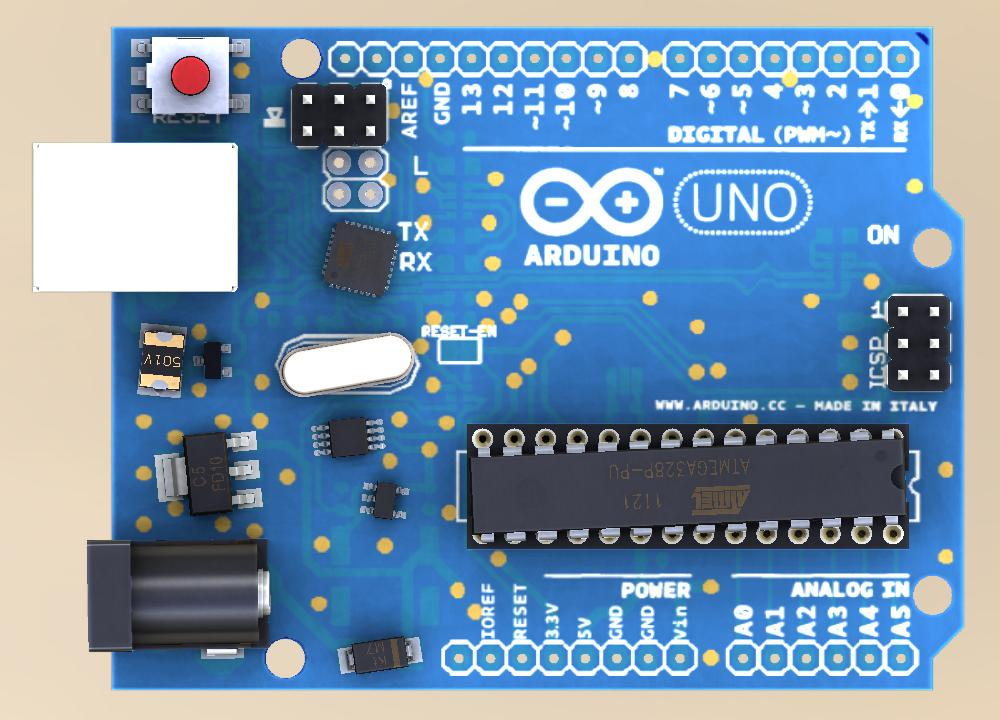ATMEL328P: (470, 421, 910, 552)
ATMega16u2: (320, 217, 398, 302)
Crystal: (279, 334, 419, 401)
Fuse: (131, 321, 189, 398)
LMV358: (360, 473, 411, 524)
M7 diode: (336, 634, 427, 677)
Missing: (329, 40, 649, 79), (440, 639, 701, 679), (383, 530, 464, 625), (304, 524, 382, 621), (433, 176, 478, 231), (813, 247, 859, 295), (837, 306, 866, 377), (256, 86, 291, 144), (600, 366, 650, 399), (443, 377, 481, 417), (439, 250, 487, 277)
PIN Header: (887, 293, 953, 391), (291, 81, 387, 148)
Power: (80, 534, 269, 661)
Regulator: (130, 413, 277, 536)
Reset: (129, 36, 250, 120)
SSOT3: (193, 336, 234, 386)
USB: (34, 141, 241, 294)
lp2985: (310, 416, 390, 459)
